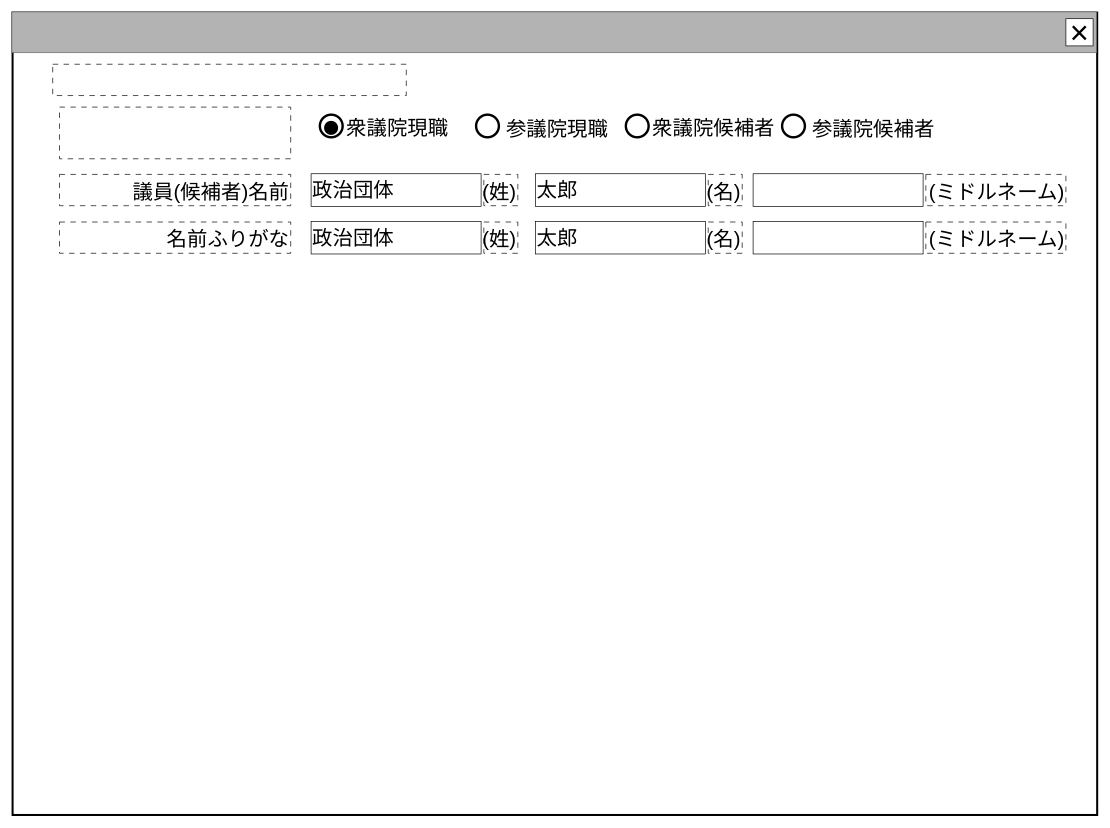
Some shapes in this 1110 by 828 pixel diagram are drawn without their labels. Each missing label, with the centre of its shape:
国会議員の所属または 候補者の所属予定: pixel 175 132
国会議員現職・候補者3人目: pixel 229 80
